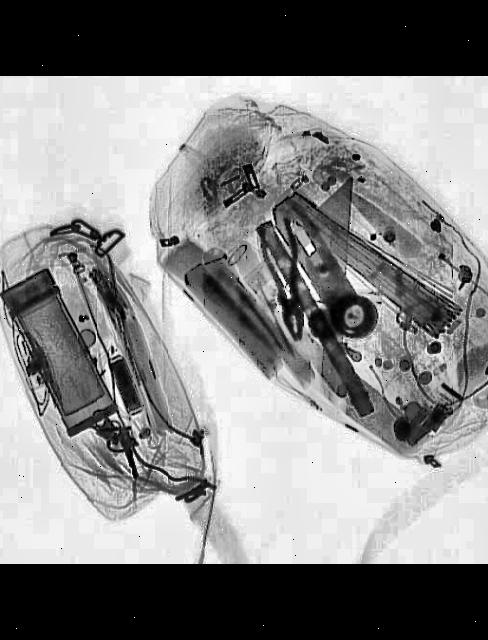Pliers: (255, 220, 319, 346)
